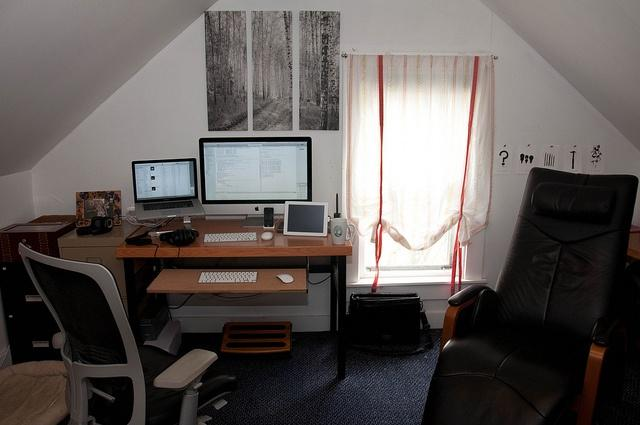AIO PC-Monitor-TV: (197, 133, 312, 216)
Kursi: (18, 241, 236, 424)
Meja: (116, 215, 352, 268)
